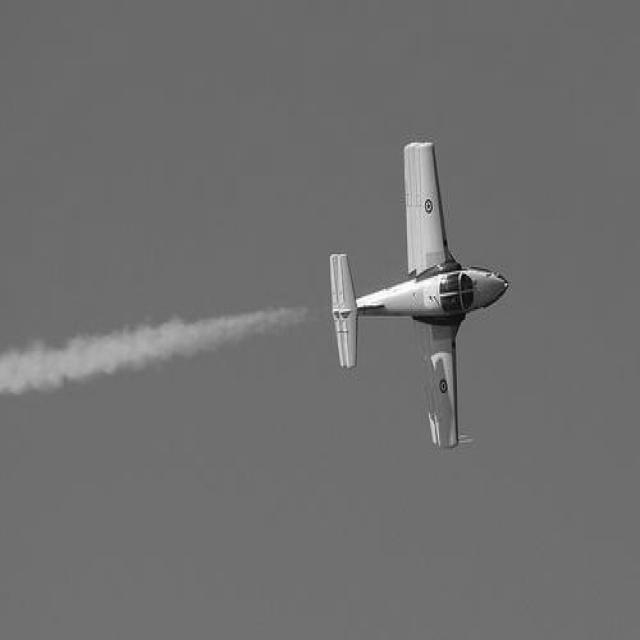aeroplane: (330, 141, 510, 450)
